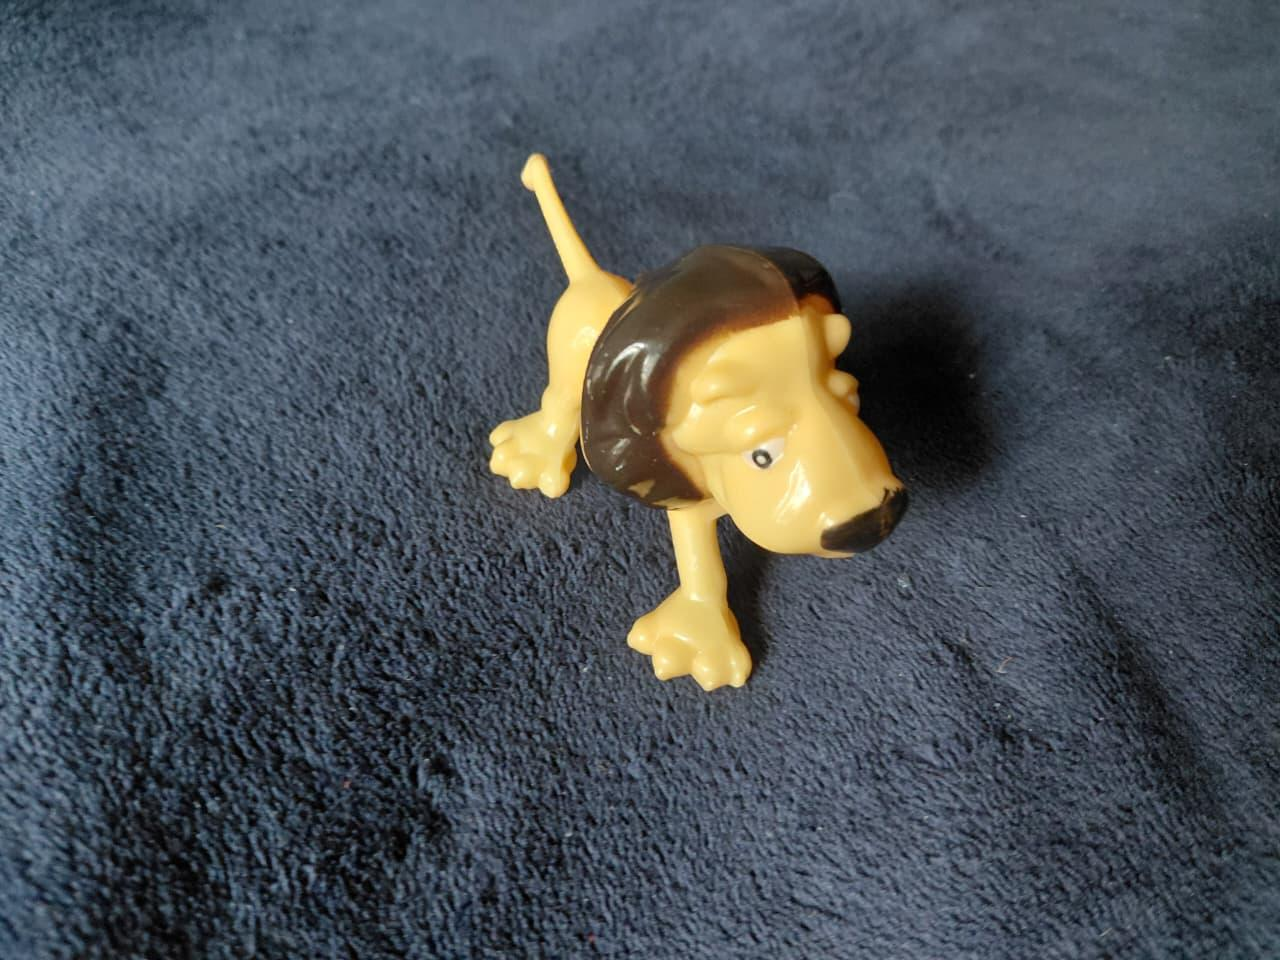lion: (470, 128, 923, 698)
